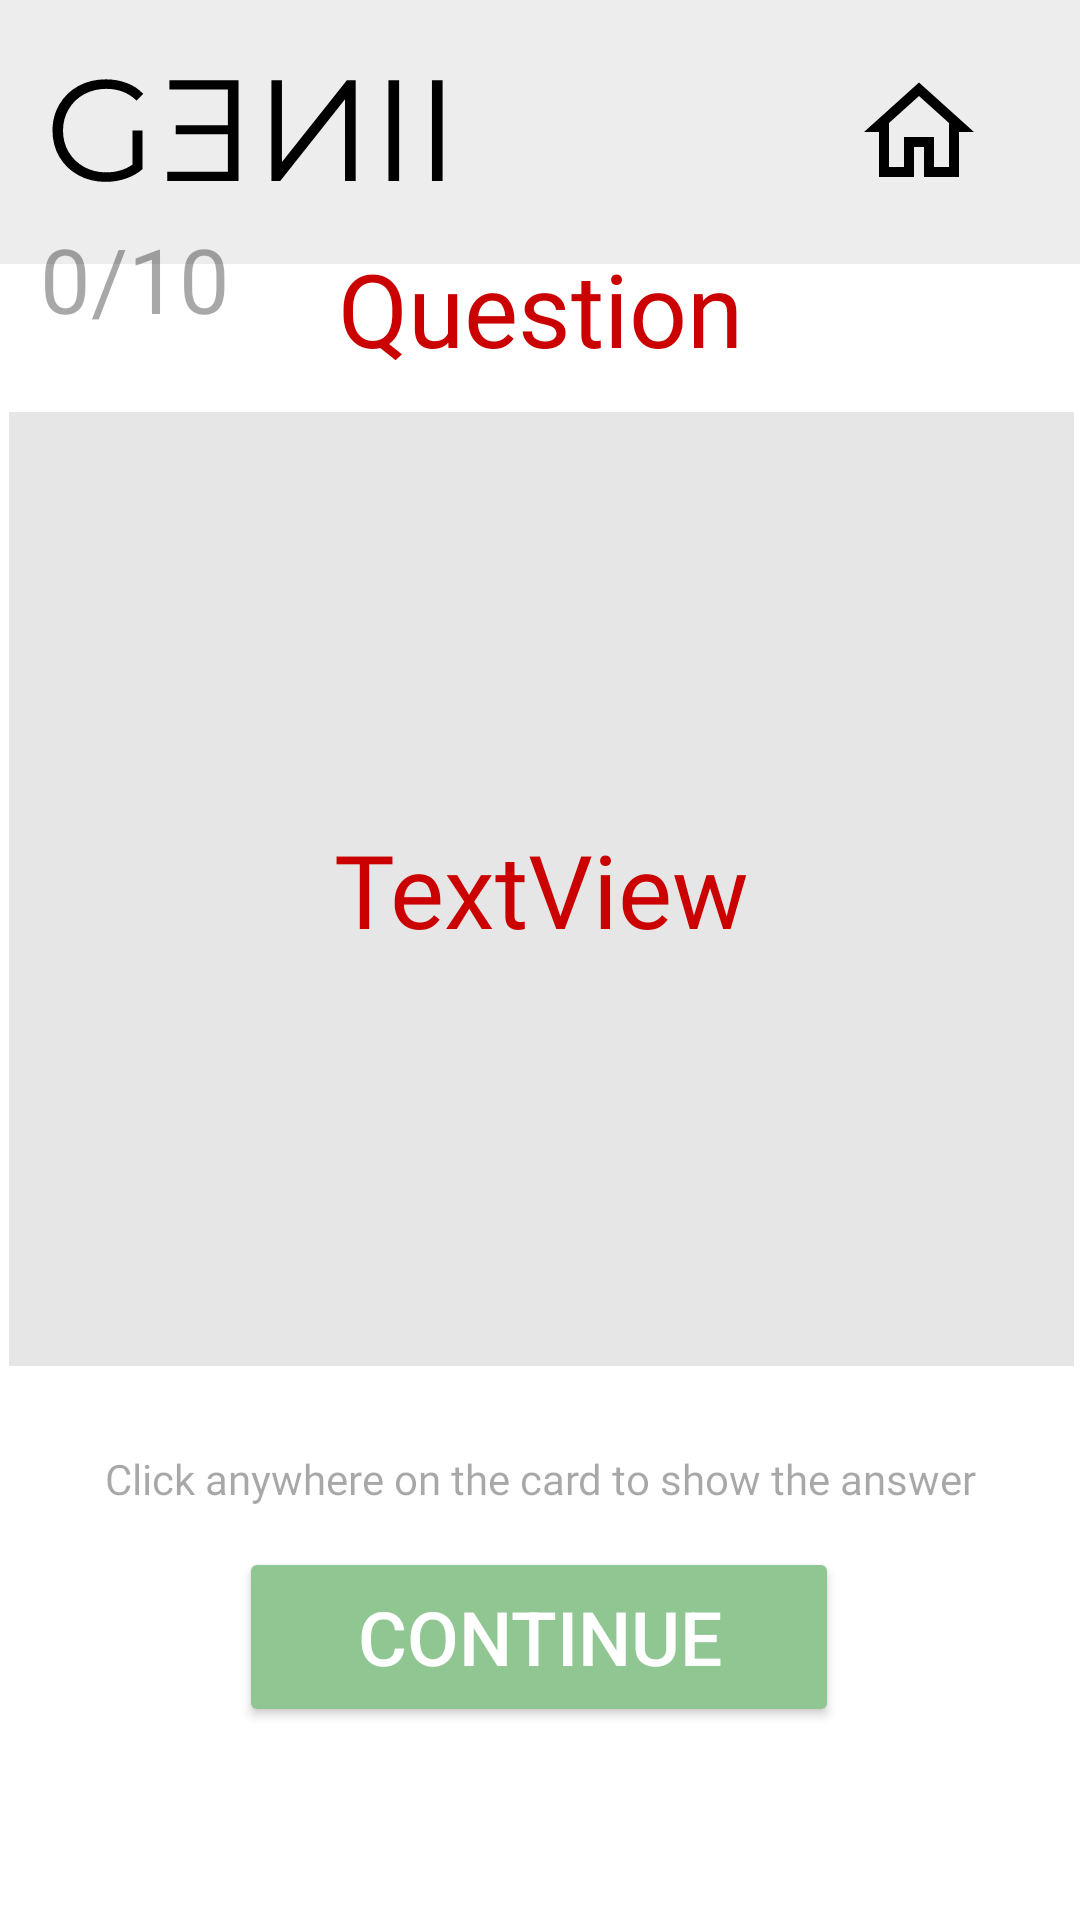

Where to tap for icons on this 1080*1920 app screen, as (x,y):
home: (919,129)
